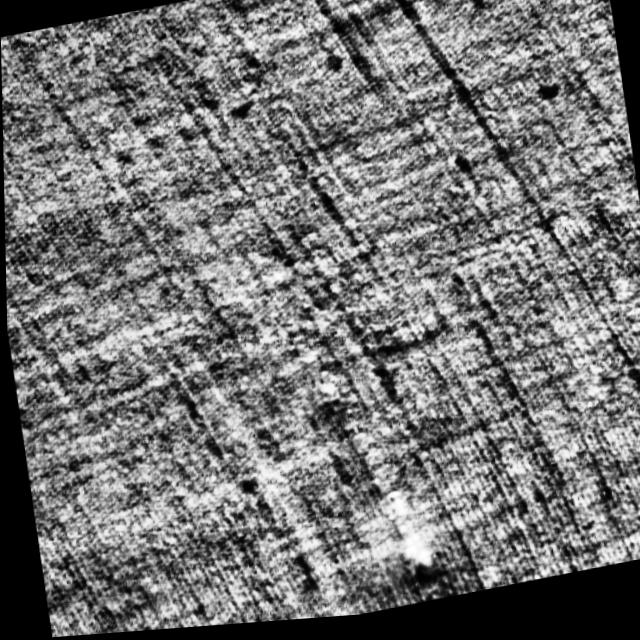Stitch: (275, 297, 446, 611)
